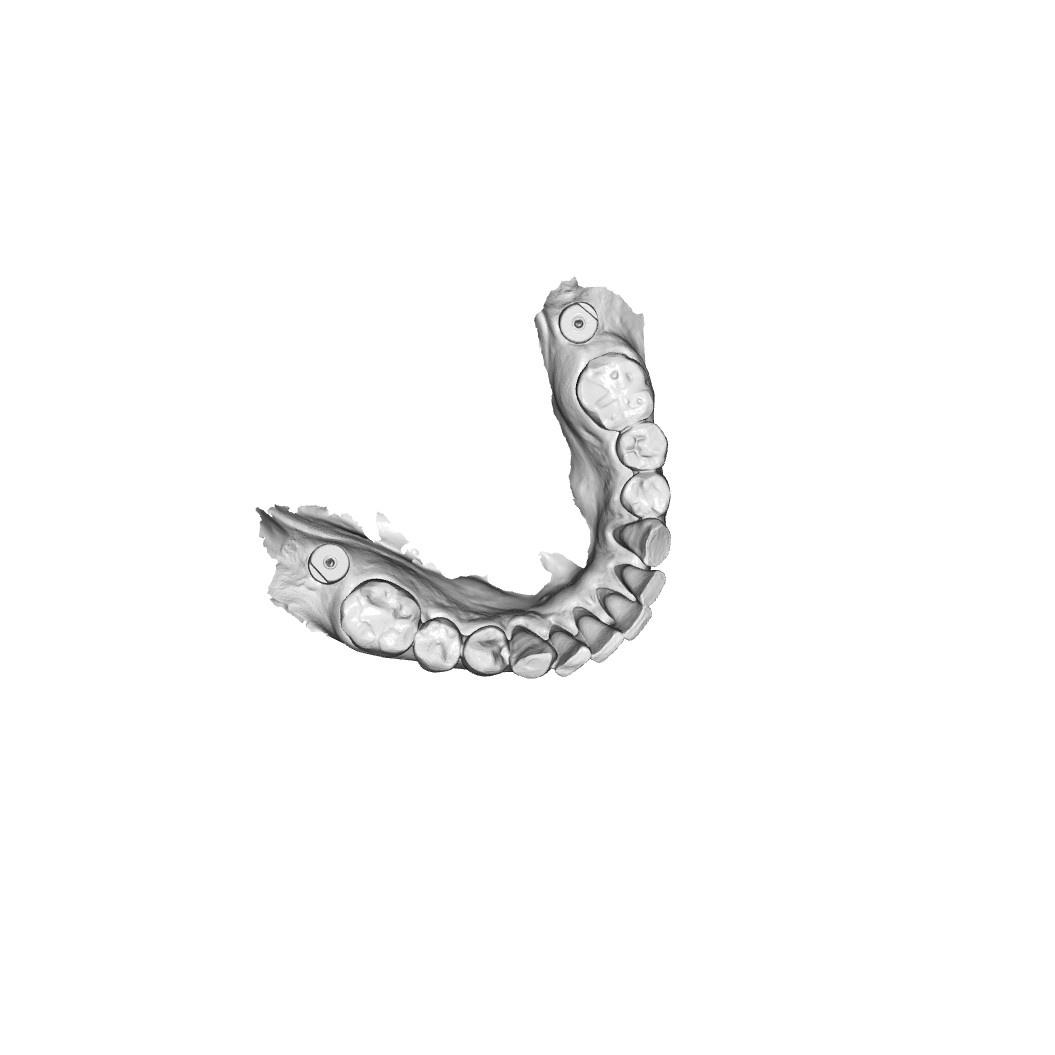canine: (610, 515, 675, 572), (505, 620, 559, 683)
implant: (306, 542, 352, 587), (560, 301, 595, 342)
incisor: (580, 612, 627, 665), (601, 591, 649, 639), (621, 561, 670, 606), (549, 630, 591, 681)
molar: (337, 577, 422, 657), (575, 351, 654, 432)
premolar: (413, 617, 463, 676), (620, 472, 674, 522), (462, 622, 508, 680), (620, 422, 669, 475)
